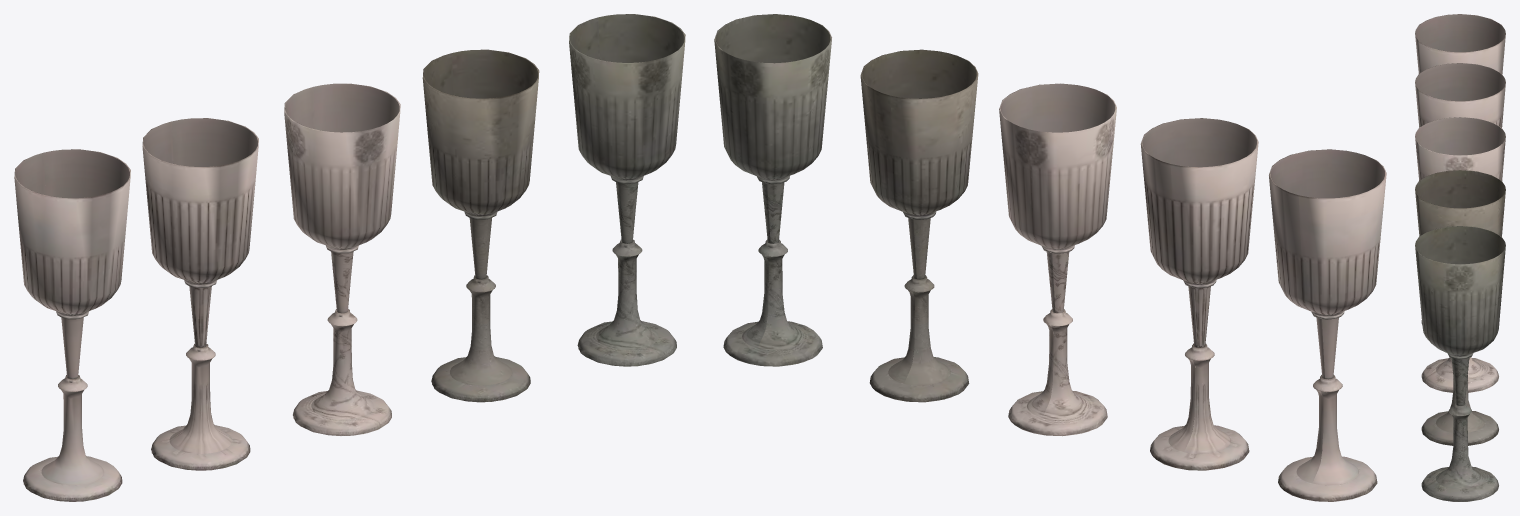
Rendered from obj_antique_silver_goblets_type__2.glb.
3 views of the same model, side by side, from view 1: azimuth 30°, elevation 25°; view 2: azimuth 150°, elevation 25°; view 3: azimuth 270°, elevation 25° (orthographic). The views are drawn at different scales.
Parts seen in each view (by area): view 1: Object_10; view 2: Object_10; view 3: Object_10.
Part boxes in pixels (x1=…): Object_10: x1=14, y1=14, x2=685, y2=501; Object_10: x1=714, y1=14, x2=1386, y2=501; Object_10: x1=1415, y1=14, x2=1505, y2=501.
Size of the model in its own units: 0.5003 by 0.2238 by 0.0766.
Materials: 5 (5 with a texture image).
